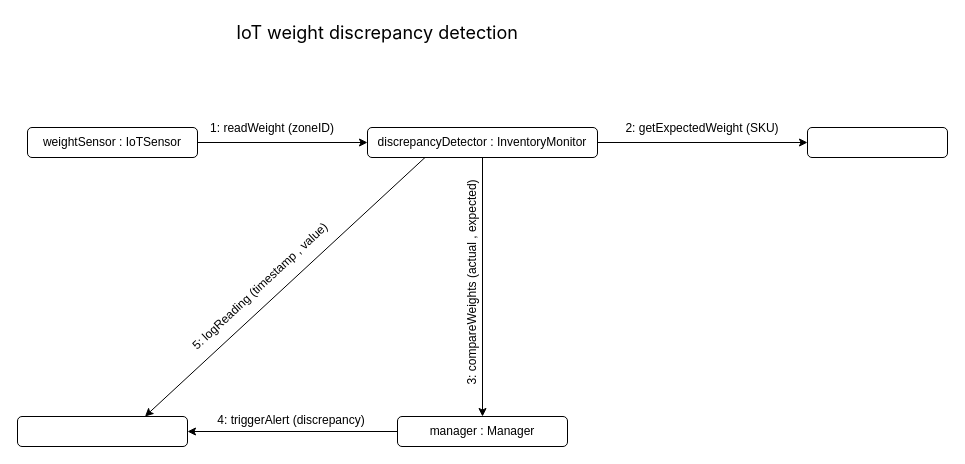
Image size: 965x464. Some labels were removed from this diagram. Here are the shapes that lost their labels. From the top down, the centre of each, then its label:
the point at 877,142: item : Item
the point at 102,431: auditLog : AuditLog
